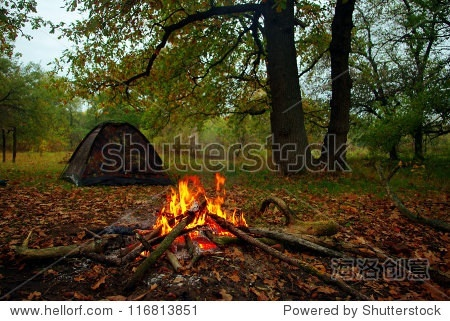fire: (150, 172, 247, 244)
